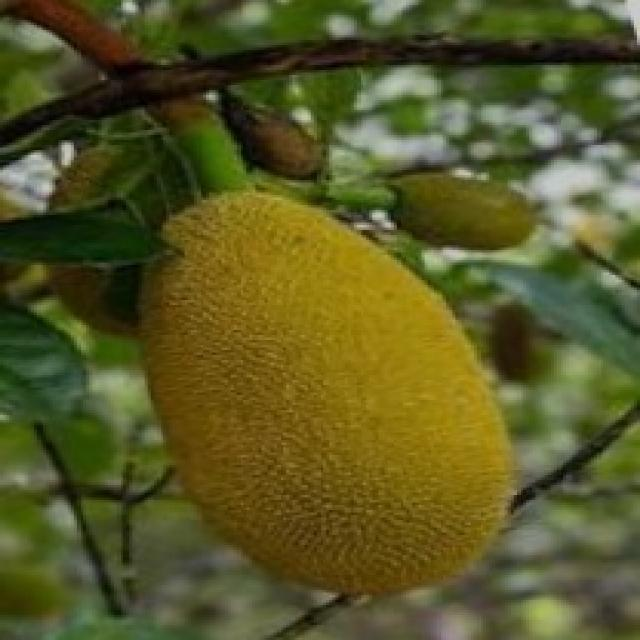Fruit: (178, 225, 572, 637)
